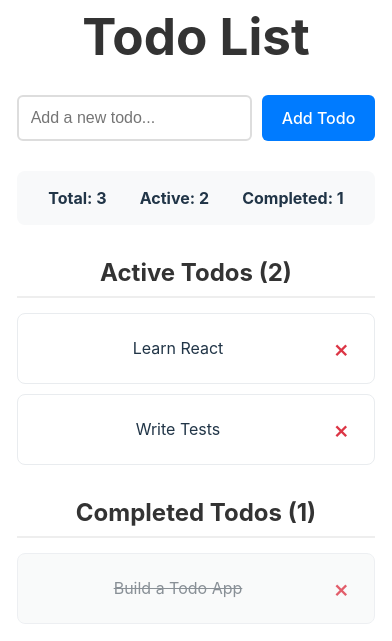
TodoList Component › shows empty messages when appropriate
What coordinates should you click on to do the following:
click the button named "Delete"
I would click on:
 (341, 348)
Its box is [323,329,359,368].
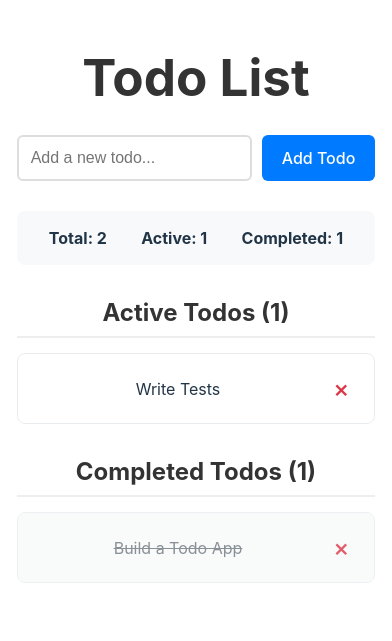
What coordinates should you click on to do the following:
click the button named "Delete"
I would click on:
 (341, 389)
Its box is [323,369,359,408].
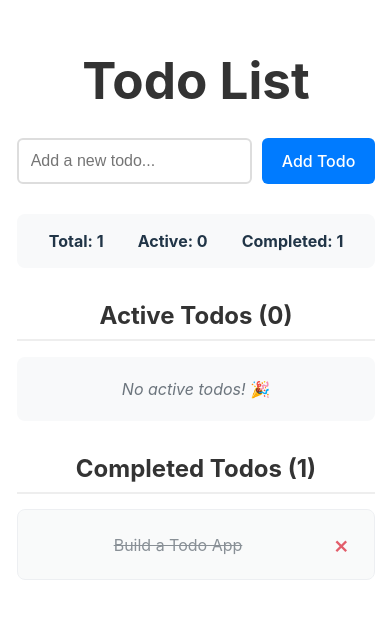
What coordinates should you click on to do the following:
click the button named "Delete"
I would click on:
 (341, 545)
Its box is [323,525,359,564].
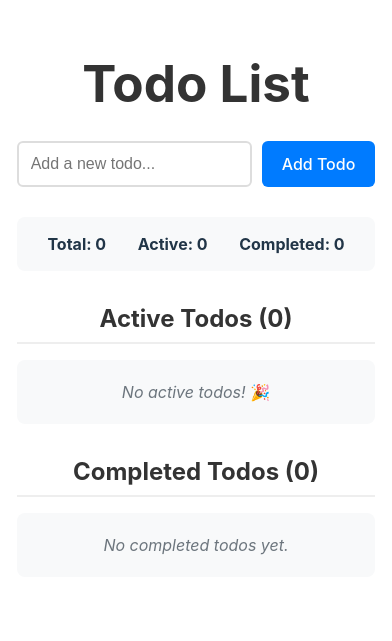
Expected: the text "No active todos! 🎉" is shown, [17,360,375,424]
Expected: the text "No completed todos yet." is shown, [17,513,375,577]
Expected: the text "Total: 0" is shown, [47,232,106,256]
